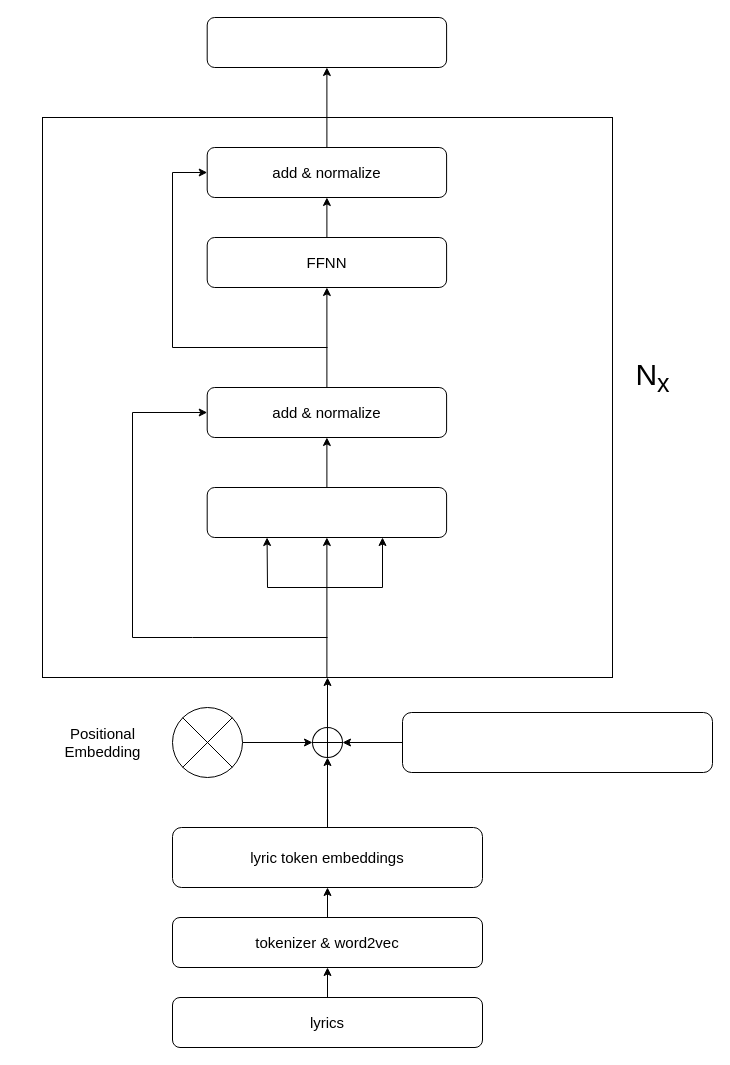
Some shapes in this 730 by 1065 pixel diagram are drawn without their labels. The box of each missing label's shape, as (x1, y1, x2, y2) in pixels:
concatenate audio features like bpm, danceability, etc. to PE + LTE: (402, 712, 712, 772)
multi-head attention: (206, 486, 447, 538)
Output Embedding: (206, 16, 447, 68)
